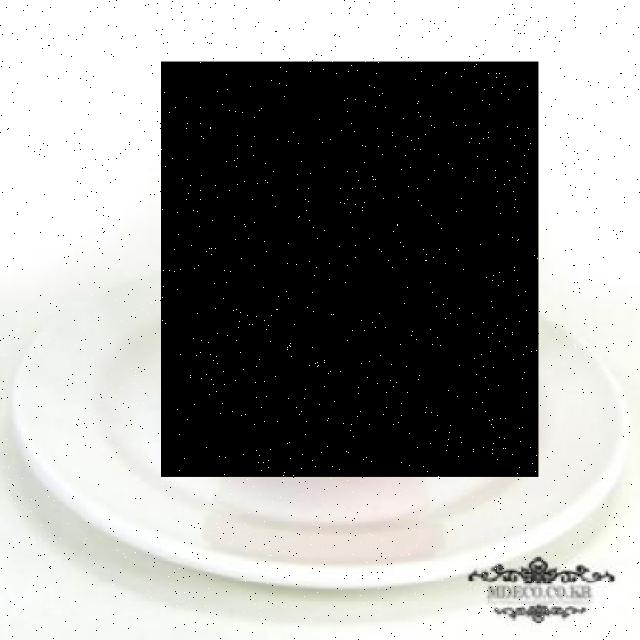Capsicum: (160, 62, 538, 476)
